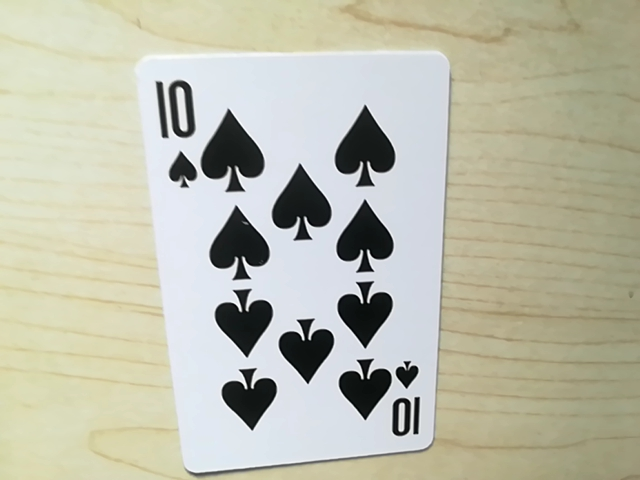ht 10: (150, 66, 205, 193), (376, 368, 425, 439)
